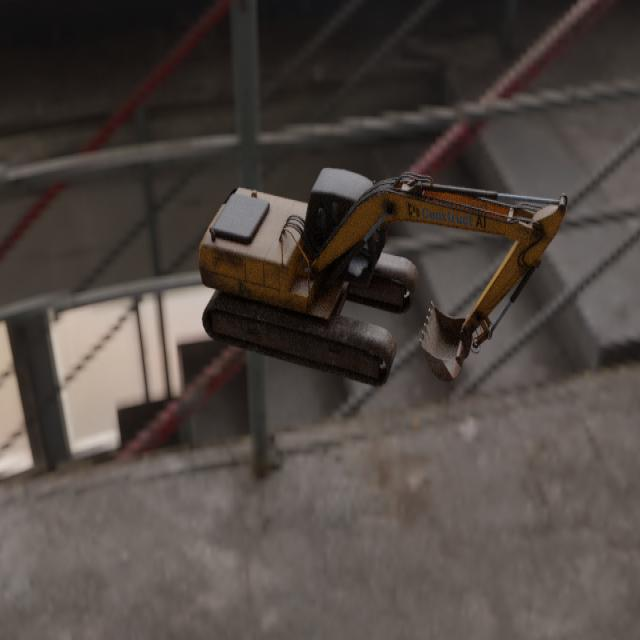excavator: (198, 166, 568, 386)
